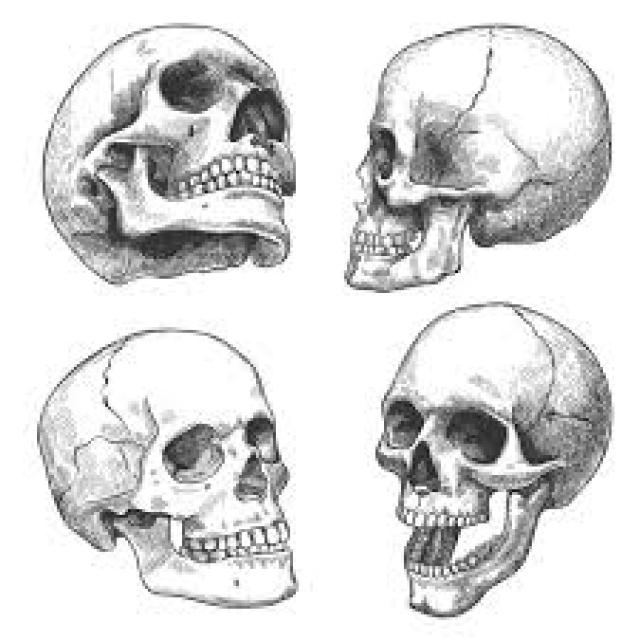skull: (26, 311, 331, 640)
